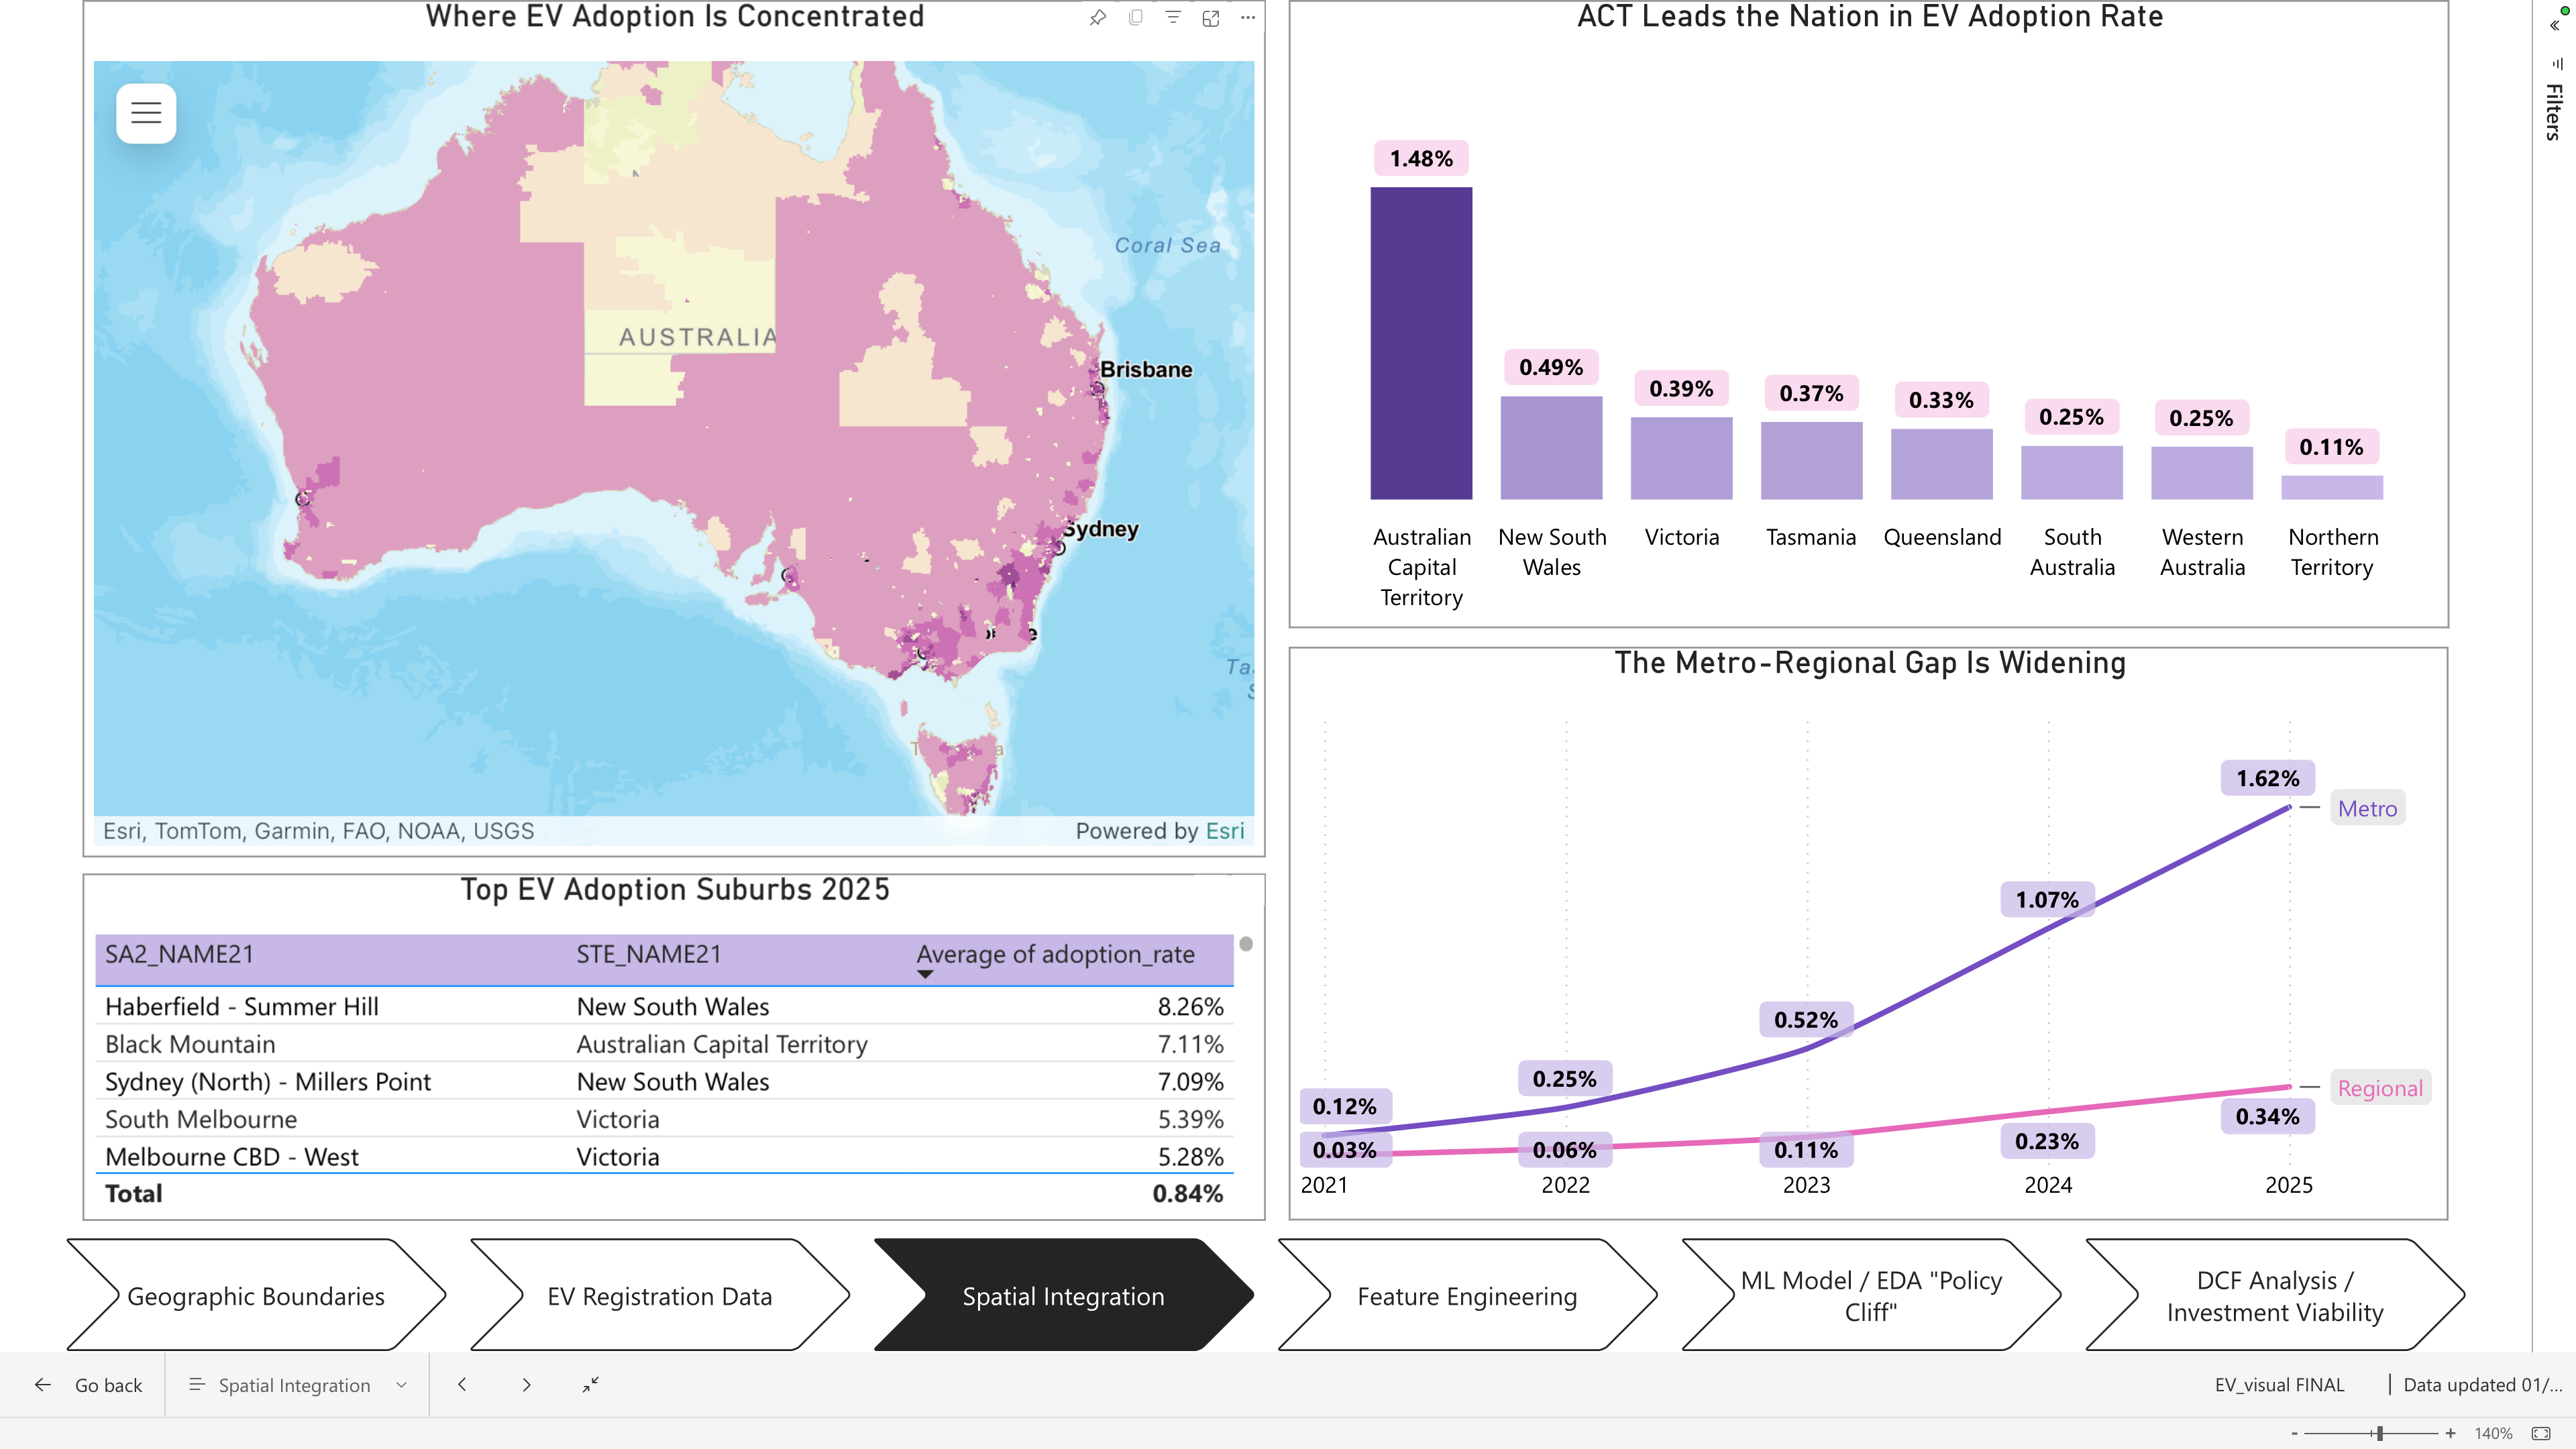

Layout of this report page (visuals, bound fields, positions):
{"tool":"powerbi","page":{"name":"Spatial Integration","canvas":[1280,720],"ordinal":2},"visuals":[{"type":"esriVisual","title":"Where EV Adoption Is Concentrated","fields":{"Color":["Avg(ev_master_charging.adoption_rate)"],"Location":["ev_master_charging.SA2_CODE21"]},"box":[10.2,0,629.8,456.4],"z":0},{"type":"tableEx","title":"Top EV Adoption Suburbs 2025","fields":{"Values":["ev_master_charging.SA2_NAME21","ev_master_charging.STE_NAME21","Avg(ev_master_charging.adoption_rate)"]},"box":[10.2,465.3,629.8,184.9],"z":1000},{"type":"clusteredColumnChart","title":"ACT Leads the Nation in EV Adoption Rate","fields":{"Category":["ev_master_charging.STE_NAME21","ev_master_charging.SA4_NAME21","ev_master_charging.SA3_NAME21","ev_master_charging.SA2_NAME21"],"Y":["Avg(ev_master_charging.adoption_rate)"]},"box":[652.1,0,617.8,334.3],"z":2000},{"type":"lineChart","title":"The Metro-Regional Gap Is Widening","fields":{"Category":["ev_master_charging.year"],"Series":["ev_master_charging.Area Type"],"Y":["Avg(ev_master_charging.adoption_rate)"]},"box":[652.1,344.5,617.8,305.1],"z":3000},{"type":"pageNavigator","box":[0,659.4,1280,60.6],"z":4000}]}

Visuals, with their boxes on the page's 1280x720 design canvas (x1, y1, x2, y2). These are canvas units, not pixel positions in the 2576x1449 screenshot, which may show the page scaled, cropped or inside an application window:
"Where EV Adoption Is Concentrated" esriVisual: box(10, 0, 640, 456)
"Top EV Adoption Suburbs 2025" tableEx: box(10, 465, 640, 650)
"ACT Leads the Nation in EV Adoption Rate" clusteredColumnChart: box(652, 0, 1270, 334)
"The Metro-Regional Gap Is Widening" lineChart: box(652, 344, 1270, 650)
pageNavigator: box(0, 659, 1280, 720)
